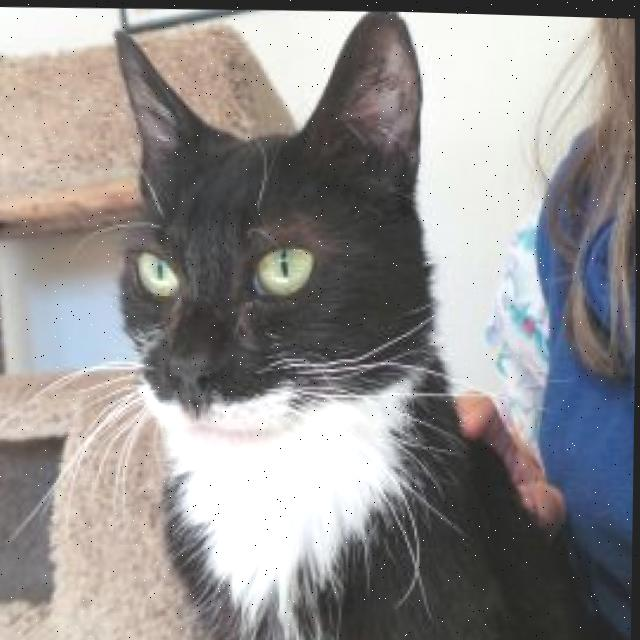Tuxedo: (99, 2, 636, 640)
